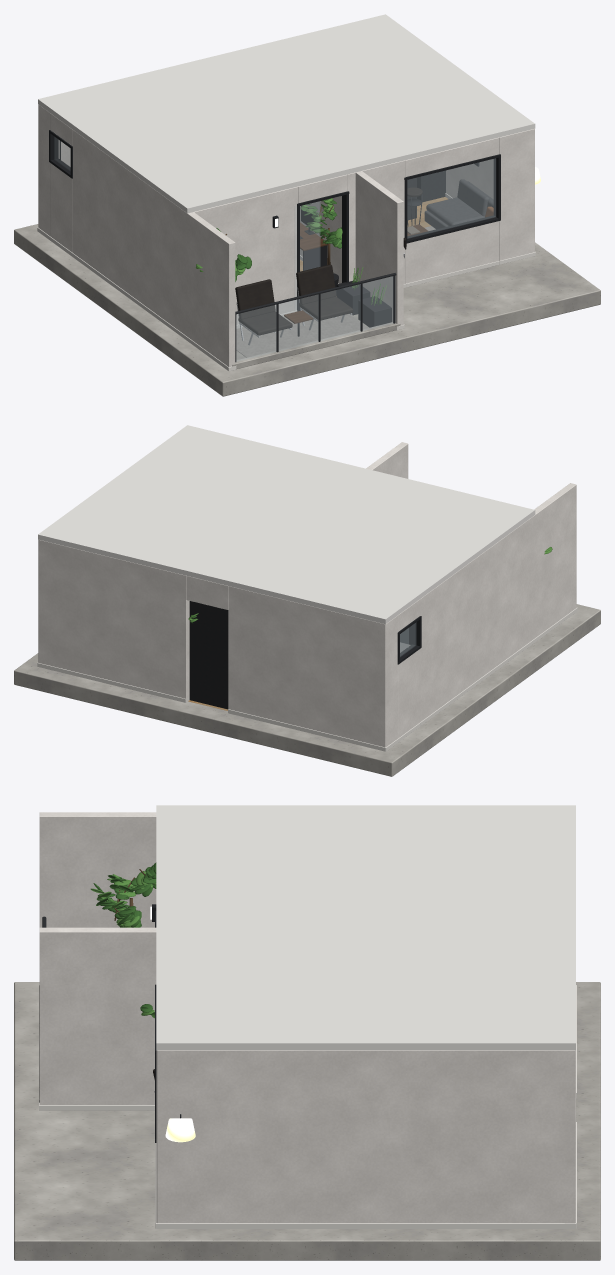
File: apartment.glb
3 renders of one model, top to bottom at view 1: azimuth 30°, elevation 25°; view 2: azimuth 150°, elevation 25°; view 3: azimuth 270°, elevation 25°, orthographic. The views are drawn at different scales.
Visible parts, largest first — view 1: Ceiling__ceiling, Walls_W__plaster, Static__concrete, Walls_S__plaster, Walls_S__glass, Walls_E__plaster, Static__leather, Walls_S__frame, Static__wool_rug, Static__charcoal, Walls_I__glass, Static__pot_black (+10 smaller); view 2: Ceiling__ceiling, Walls_N__plaster, Walls_W__plaster, Static__concrete, Static__matte_black, Walls_N__skirting, Walls_W__skirting, Walls_E__plaster, Walls_W__frame; view 3: Ceiling__ceiling, Walls_E__plaster, Static__concrete, Walls_W__plaster, Walls_E__skirting, Static__leaf, Static__leaf_light, Static__lamp_shade.
Part boxes in pixels (<box>): Ceiling__ceiling: <box>38,14,535,213</box>; Walls_W__plaster: <box>38,104,235,367</box>; Static__concrete: <box>14,224,600,396</box>; Walls_S__plaster: <box>194,129,534,324</box>; Walls_S__glass: <box>236,158,495,361</box>; Walls_E__plaster: <box>355,128,534,325</box>; Static__leather: <box>235,187,422,335</box>; Walls_S__frame: <box>297,154,500,311</box>; Static__wool_rug: <box>236,226,435,357</box>; Static__charcoal: <box>424,179,493,229</box>; Walls_I__glass: <box>295,201,320,296</box>; Static__pot_black: <box>333,273,391,327</box>; Ceiling__ceiling: <box>38,425,535,624</box>; Walls_N__plaster: <box>38,539,385,747</box>; Walls_W__plaster: <box>385,483,576,746</box>; Static__concrete: <box>14,604,600,776</box>; Static__matte_black: <box>189,601,228,709</box>; Walls_N__skirting: <box>37,663,385,751</box>; Walls_W__skirting: <box>385,607,577,751</box>; Walls_E__plaster: <box>366,442,408,478</box>; Walls_W__frame: <box>397,616,421,664</box>; Ceiling__ceiling: <box>156,805,575,1050</box>; Walls_E__plaster: <box>39,927,575,1223</box>; Static__concrete: <box>14,982,600,1260</box>; Walls_W__plaster: <box>39,812,156,927</box>; Walls_E__skirting: <box>39,1102,575,1228</box>; Static__leaf: <box>93,862,156,1014</box>; Static__leaf_light: <box>90,863,156,1018</box>; Static__lamp_shade: <box>165,1118,195,1142</box>.
Bounding box in the file's own units: 8.1 × 3.02 × 7.75.
Materials: 46 (21 with a texture image).
